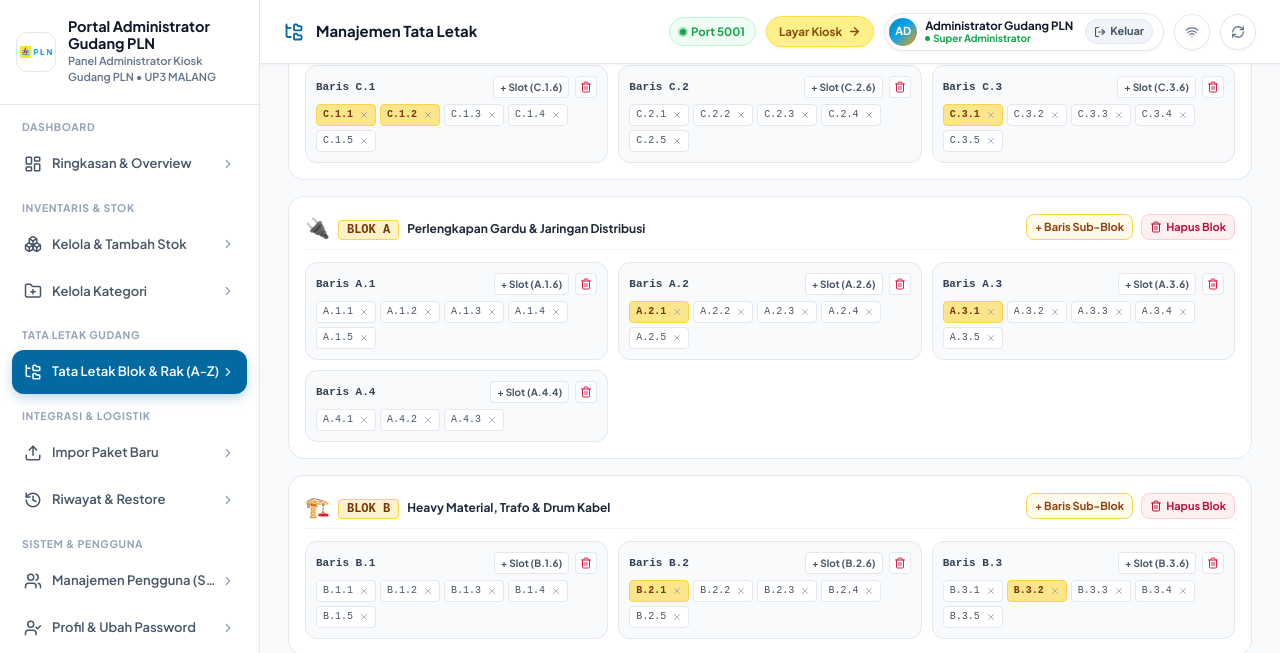
Test: Warehouse Hierarchy Deletion Tests (Blok, Sub-Blok, Slot) › allows deleting a sub-block with confirmation modal in Admin Locations tab
(page scrolled)
Note: Find delete button for Baris A.4
Click the button titled "Hapus baris A.4" at (586, 392), box [575,381,597,403]
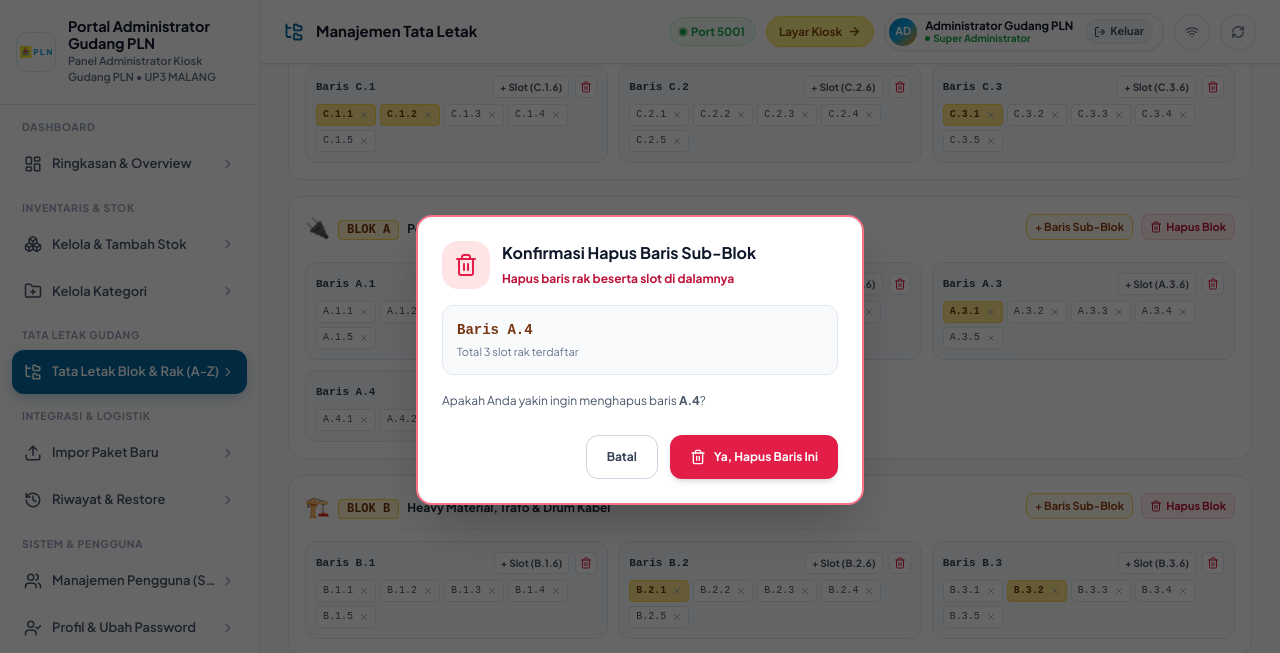
Expected: the text "Baris A.4" below "A.1.5" is shown, [316,384,375,400]
Result: the heading "Konfirmasi Hapus Baris Sub-Blok" is shown at [502,241,756,265]
Note: Click "Ya, Hapus Baris Ini"
Click the button "Ya, Hapus Baris Ini" at (754, 457), box [670,435,838,479]
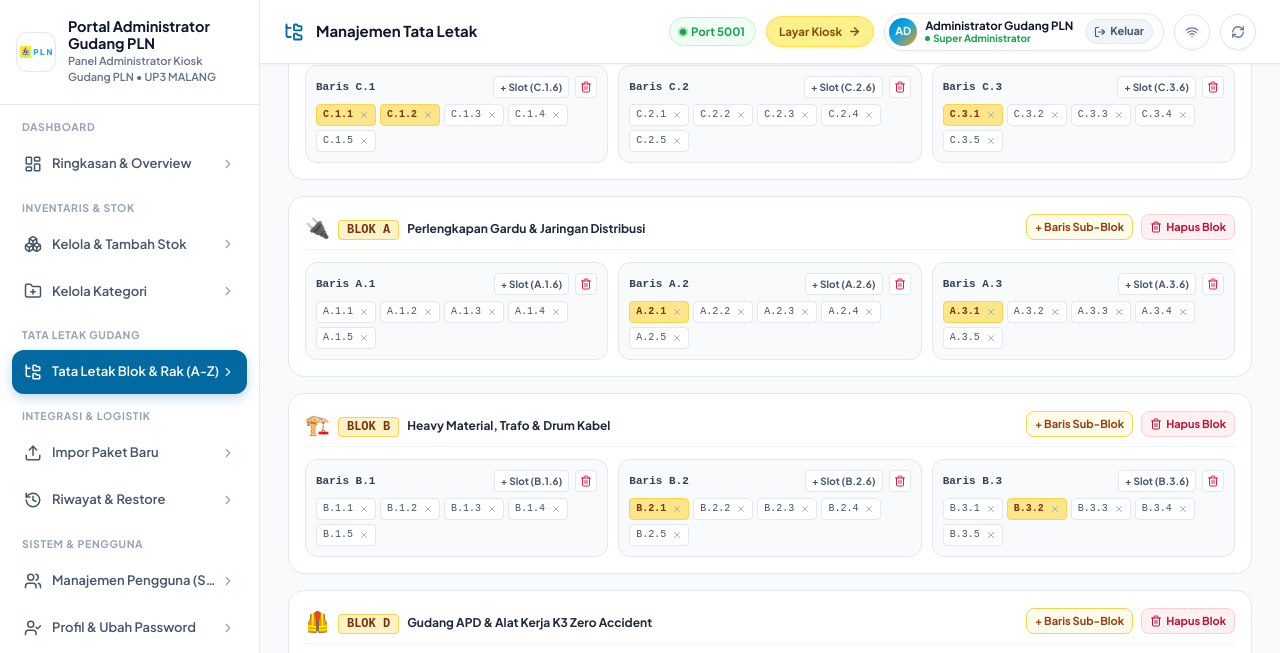
Result: the heading "Konfirmasi Hapus Baris Sub-Blok" is gone
